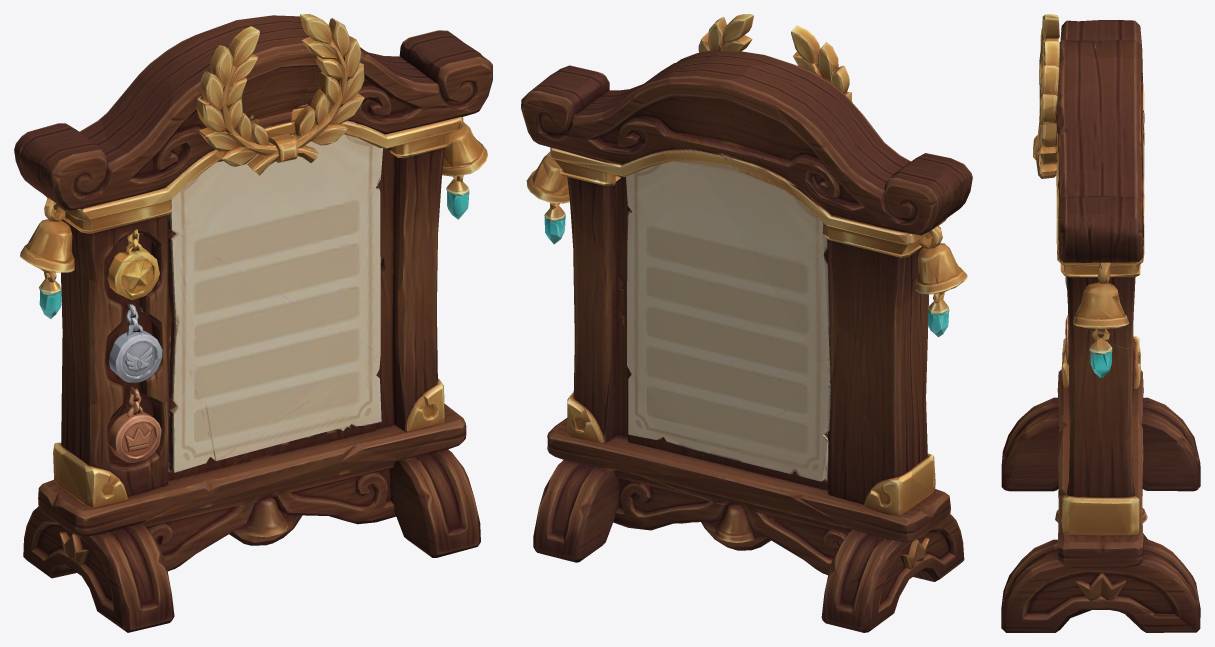
Rendered from gh_ranking_board.fbx.
The picture shows the model from 3 angles, left to right: view 1: azimuth 30°, elevation 25°; view 2: azimuth 150°, elevation 25°; view 3: azimuth 270°, elevation 25°; orthographic projection. The views are drawn at different scales.
Visible parts, largest first — view 1: gh_ranking_board; view 2: gh_ranking_board; view 3: gh_ranking_board.
Boxes of the visible parts, left/top/right/bottom form: gh_ranking_board: left=14, top=14, right=492, bottom=632; gh_ranking_board: left=521, top=14, right=972, bottom=632; gh_ranking_board: left=1001, top=14, right=1200, bottom=632.
Bounding box in the file's own units: 2.97 × 3.4 × 1.18.
